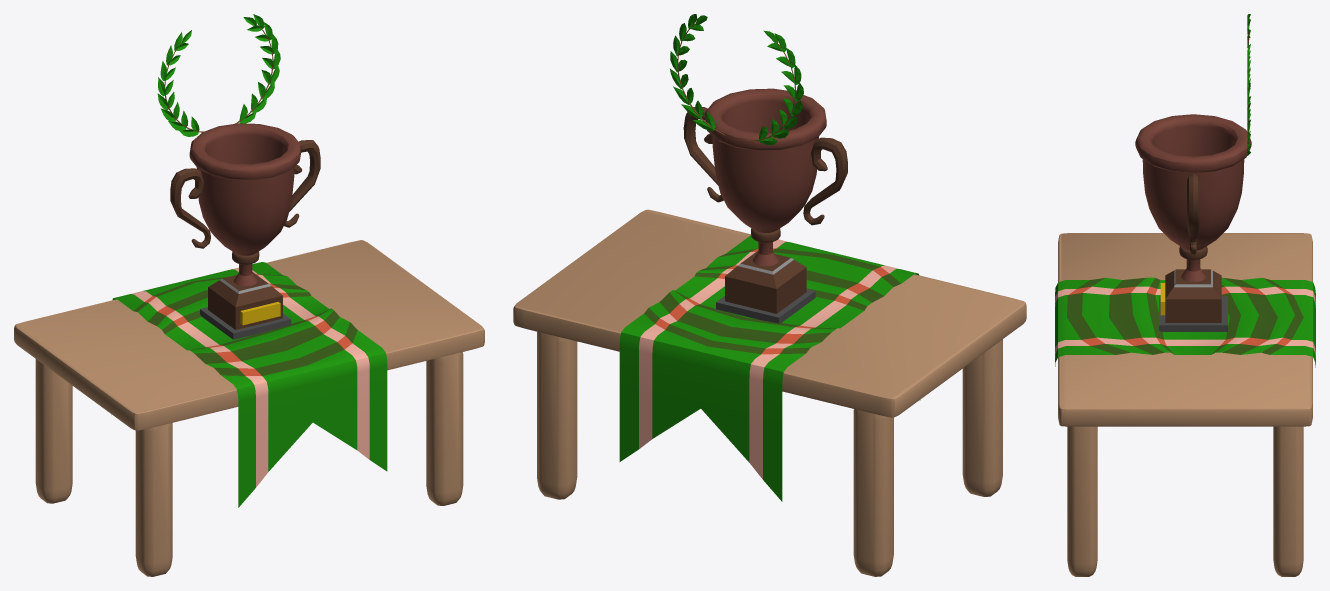
The picture shows the model from 3 angles, left to right: view 1: azimuth 30°, elevation 25°; view 2: azimuth 150°, elevation 25°; view 3: azimuth 270°, elevation 25°; orthographic projection. The views are drawn at different scales.
Parts seen in each view (by area): view 1: Trophy_Bronze; view 2: Trophy_Bronze; view 3: Trophy_Bronze.
Part boxes in pixels (<box>): Trophy_Bronze: <box>14,14,484,576</box>; Trophy_Bronze: <box>513,14,1026,576</box>; Trophy_Bronze: <box>1055,14,1315,576</box>.
Bounding box in the file's own units: 1.3 × 1.6 × 0.8077.
Materials: 1 (1 with a texture image).
